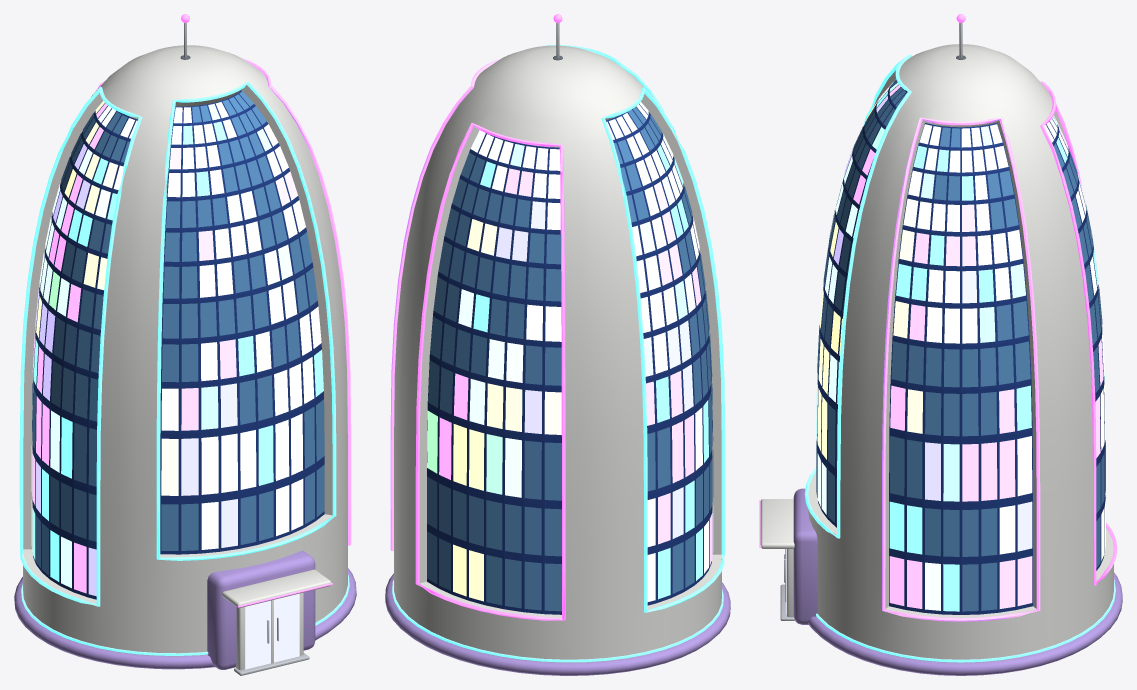
Rendered from capsula_ovo_lilas.glb.
3 views of the same model, side by side, from view 1: azimuth 30°, elevation 25°; view 2: azimuth 150°, elevation 25°; view 3: azimuth 270°, elevation 25° (orthographic).
Visible parts, largest first — view 1: capsula_ovo_lilas; view 2: capsula_ovo_lilas; view 3: capsula_ovo_lilas.
Part boxes in pixels (<box>): capsula_ovo_lilas: <box>14,14,356,675</box>; capsula_ovo_lilas: <box>385,14,730,675</box>; capsula_ovo_lilas: <box>759,14,1122,675</box>.
Size of the model in its own units: 12.2 by 22.7 by 12.67.
12 materials, 1 textured.
